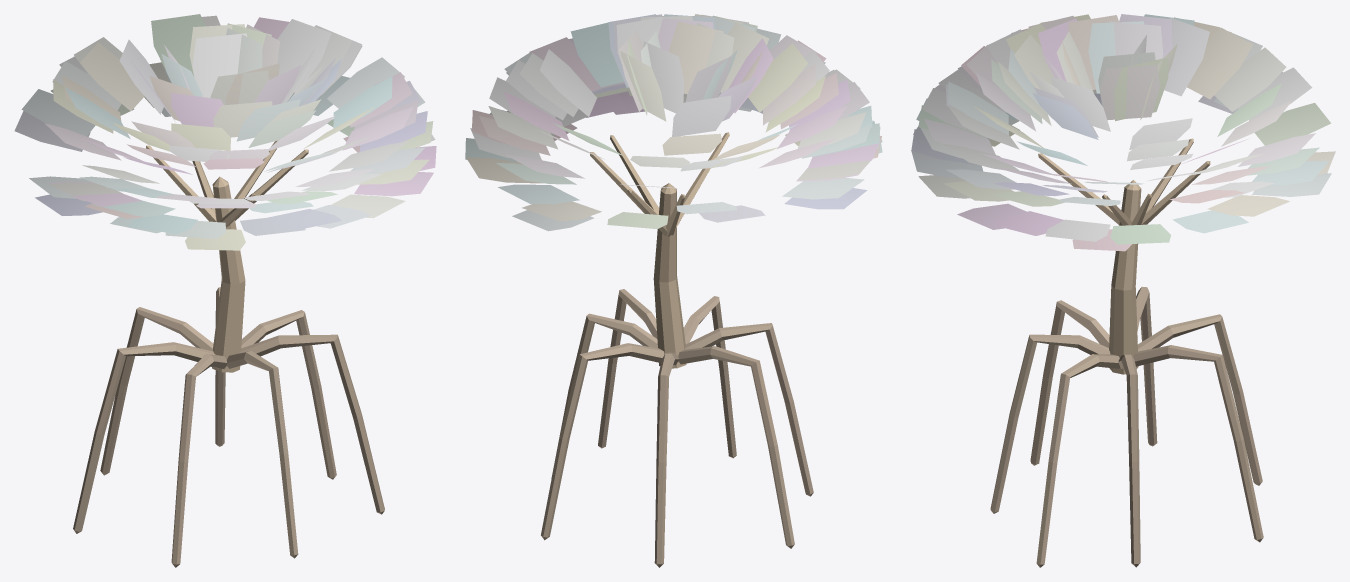
The model's file is mangrove_1.glb.
3 renders of one model, left to right at view 1: azimuth 30°, elevation 25°; view 2: azimuth 150°, elevation 25°; view 3: azimuth 270°, elevation 25°, orthographic.
Visible parts, largest first — view 1: mangrove_1; view 2: mangrove_1; view 3: mangrove_1.
Boxes of the visible parts, x1,y1,x2,y2 form: mangrove_1: (14,14,436,567); mangrove_1: (465,14,882,567); mangrove_1: (911,14,1335,567).
Bounding box in the file's own units: 0.8982 × 1.1 × 0.9019.
